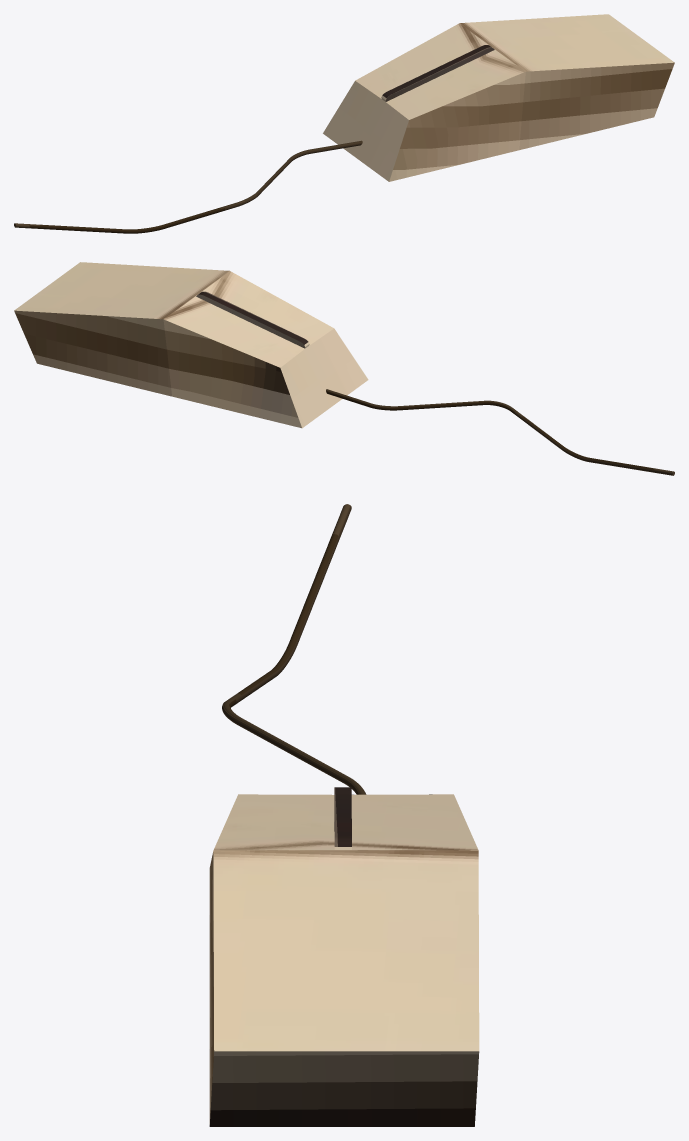
File: ps1-style-old-mouse.glb
The picture shows the model from 3 angles, top to bottom: view 1: azimuth 30°, elevation 25°; view 2: azimuth 150°, elevation 25°; view 3: azimuth 270°, elevation 25°; orthographic projection. The views are drawn at different scales.
Visible parts, largest first — view 1: Plane; view 2: Plane; view 3: Plane.
Boxes of the visible parts, box(x1,y1,x2,y2) form: Plane: box(14, 14, 674, 233); Plane: box(14, 262, 674, 475); Plane: box(209, 504, 479, 1126).
Bounding box in the file's own units: 2.28 × 0.3067 × 0.4257.
1 material, 1 textured.
